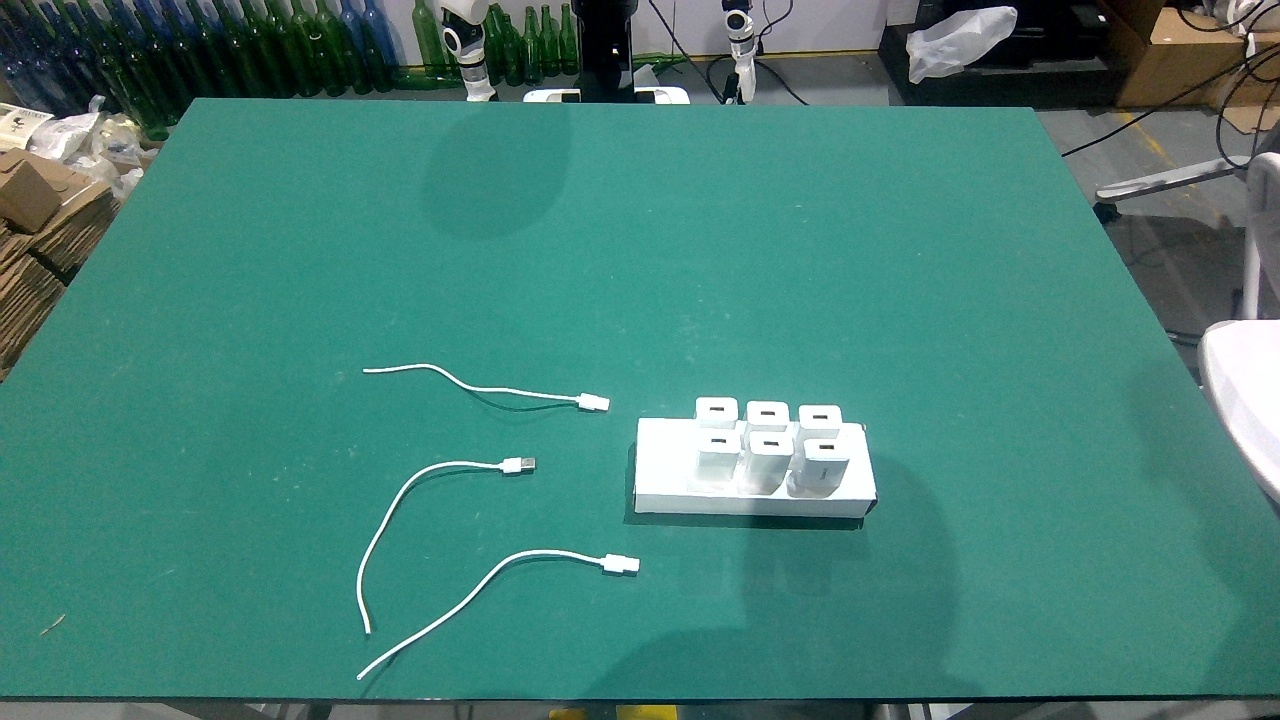usb_a_plug: (574, 549, 655, 577), (557, 387, 620, 416), (482, 456, 544, 475)
